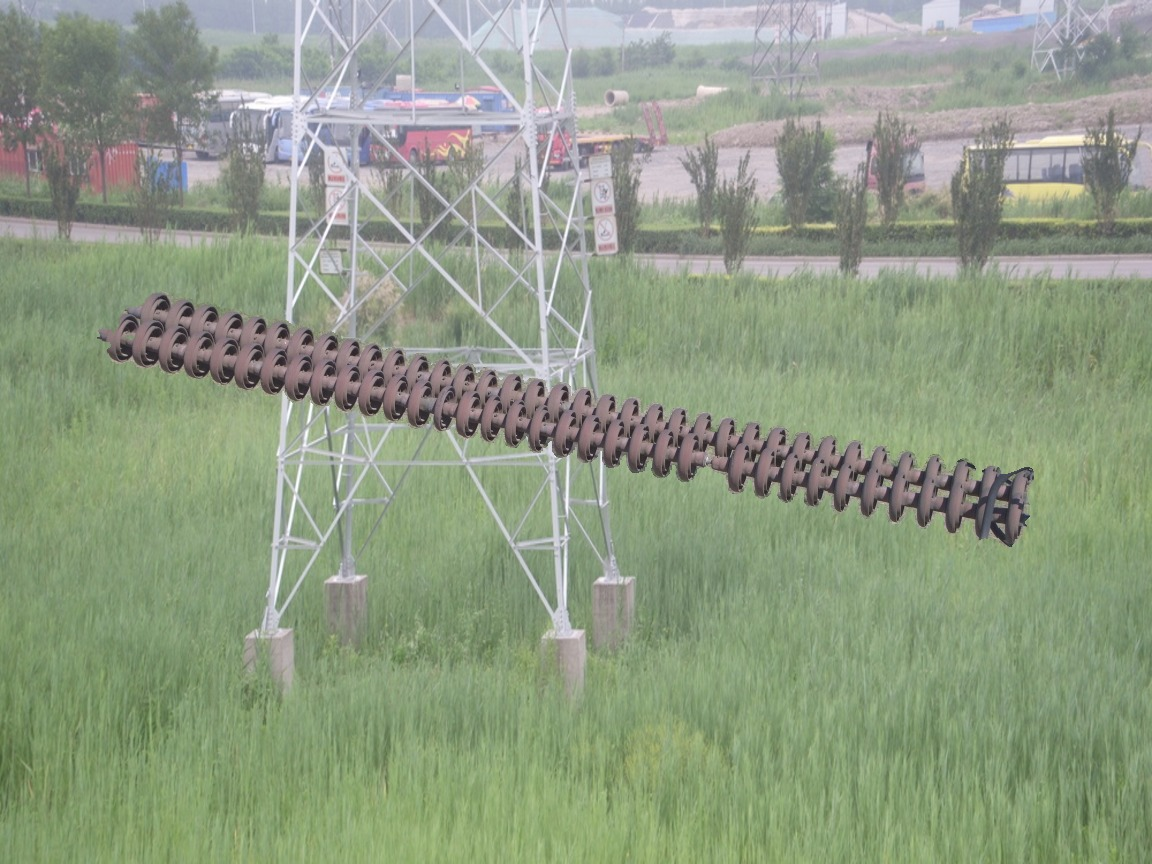defect: (668, 432, 750, 493)
